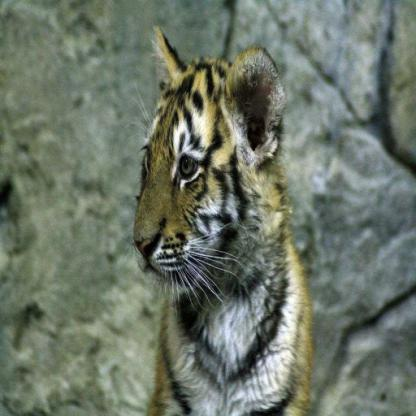Tiger: (123, 23, 334, 415)
